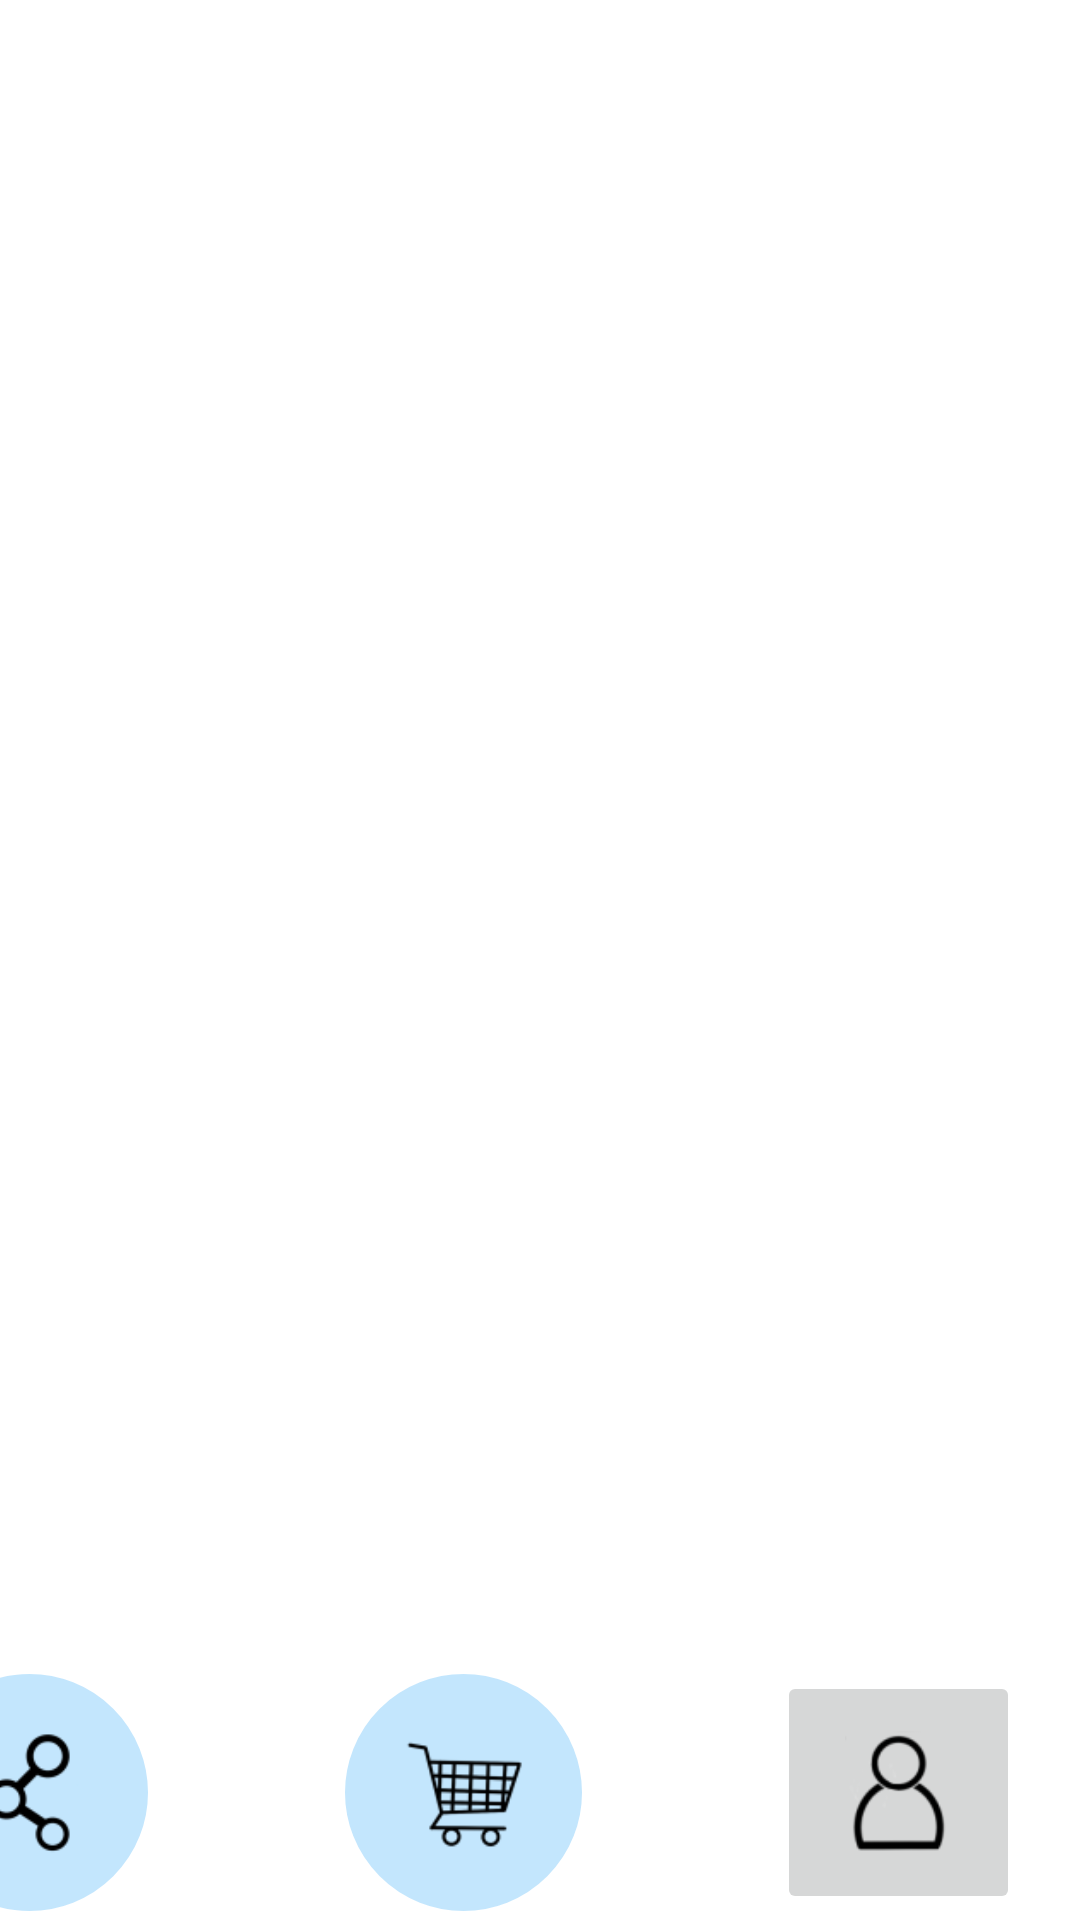

Icon click points for this 1080px x 1920px phone screenshot, format (x,y):
shop: (463,1792)
user: (898,1792)
